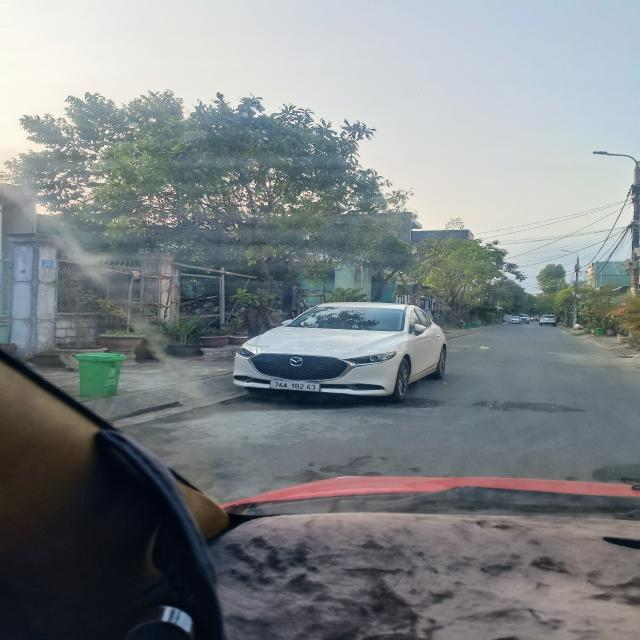car: (230, 297, 458, 411)
plate: (258, 375, 325, 397)
